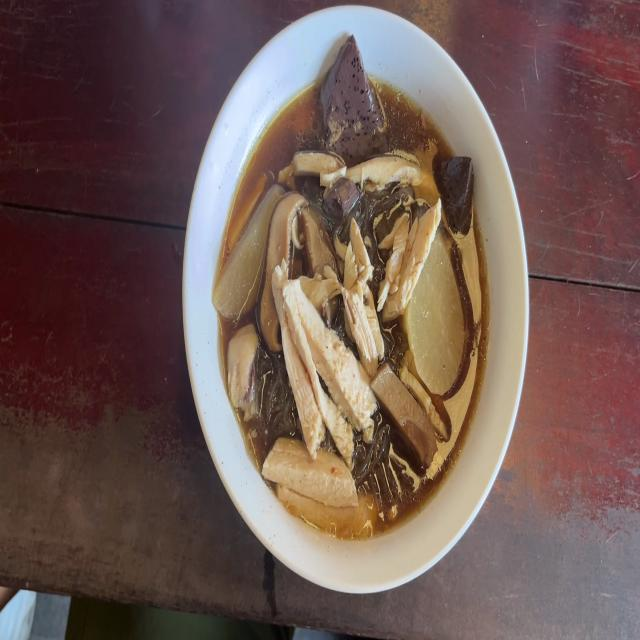boiled_chicken_blood_jelly: (326, 31, 374, 145), (443, 154, 473, 218), (327, 178, 356, 221)
chicken_shredded: (269, 284, 370, 453), (263, 440, 368, 532), (281, 148, 432, 191), (344, 228, 381, 376)
daikon_radish: (409, 243, 462, 390), (218, 184, 267, 309)
noodle: (217, 25, 498, 547)
